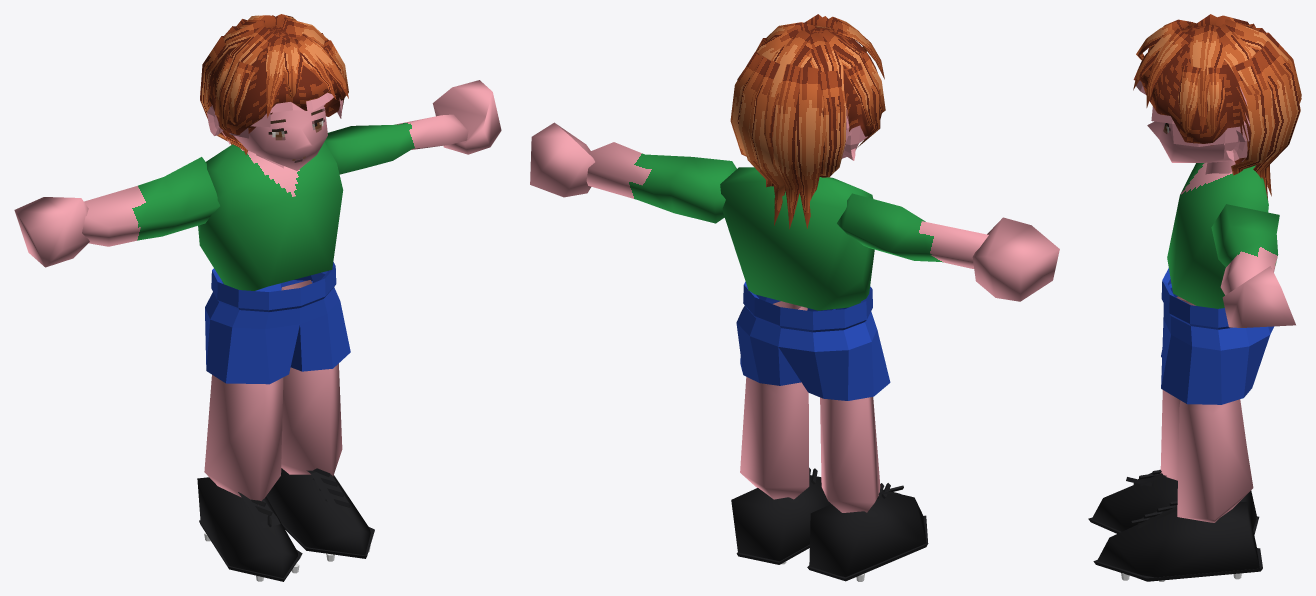
Rendered from 07-mullet_ruivo.glb.
3 views of the same model, side by side, from view 1: azimuth 30°, elevation 25°; view 2: azimuth 150°, elevation 25°; view 3: azimuth 270°, elevation 25° (orthographic). The views are drawn at different scales.
Visible parts, largest first — view 1: Camisa_Tronco, Bermuda, Cabelo, Perna.R, Braco.R, Perna.L, Chuteira.R, Chuteira.L, Braco.L, Mao.R, Cabeca, Mao.L (+2 smaller); view 2: Cabelo, Camisa_Tronco, Bermuda, Perna.L, Braco.L, Chuteira.R, Perna.R, Braco.R, Mao.R, Chuteira.L, Mao.L, Chuteira_Sola.R; view 3: Cabelo, Bermuda, Chuteira.L, Camisa_Tronco, Perna.L, Braco.L, Mao.L, Chuteira.R, Perna.R, Cabeca, Couro_Cabeludo, Chuteira_Sola.L (+3 smaller).
Part boxes in pixels (left/top/right/bottom): Camisa_Tronco: left=198, top=142, right=343, bottom=290; Bermuda: left=205, top=262, right=350, bottom=384; Cabelo: left=200, top=14, right=348, bottom=155; Perna.R: left=204, top=375, right=283, bottom=501; Braco.R: left=82, top=157, right=219, bottom=246; Perna.L: left=281, top=280, right=342, bottom=476; Chuteira.R: left=197, top=477, right=300, bottom=577; Chuteira.L: left=266, top=468, right=370, bottom=555; Braco.L: left=324, top=114, right=468, bottom=174; Mao.R: left=14, top=197, right=89, bottom=267; Cabeca: left=233, top=104, right=327, bottom=170; Mao.L: left=432, top=80, right=501, bottom=154; Cabelo: left=730, top=14, right=885, bottom=229; Camisa_Tronco: left=720, top=167, right=874, bottom=310; Bermuda: left=736, top=281, right=890, bottom=400; Perna.L: left=740, top=301, right=809, bottom=499; Braco.L: left=586, top=142, right=736, bottom=223; Chuteira.R: left=809, top=490, right=926, bottom=577; Perna.R: left=820, top=397, right=880, bottom=512; Braco.R: left=837, top=193, right=988, bottom=268; Mao.R: left=972, top=217, right=1059, bottom=301; Chuteira.L: left=731, top=475, right=830, bottom=561; Mao.L: left=530, top=122, right=594, bottom=197; Chuteira_Sola.R: left=807, top=515, right=928, bottom=581; Cabelo: left=1133, top=14, right=1301, bottom=199; Bermuda: left=1161, top=268, right=1274, bottom=404; Chuteira.L: left=1097, top=502, right=1259, bottom=581; Camisa_Tronco: left=1167, top=162, right=1268, bottom=308; Perna.L: left=1177, top=399, right=1253, bottom=522; Braco.L: left=1211, top=204, right=1279, bottom=295; Mao.L: left=1222, top=266, right=1295, bottom=327; Chuteira.R: left=1092, top=473, right=1256, bottom=531; Perna.R: left=1160, top=296, right=1246, bottom=480; Cabeca: left=1147, top=121, right=1233, bottom=162; Couro_Cabeludo: left=1136, top=80, right=1249, bottom=161; Chuteira_Sola.L: left=1093, top=548, right=1262, bottom=581.
Bounding box in the file's own units: 0.4523 × 0.4598 × 0.166.
3 materials, 3 textured.
